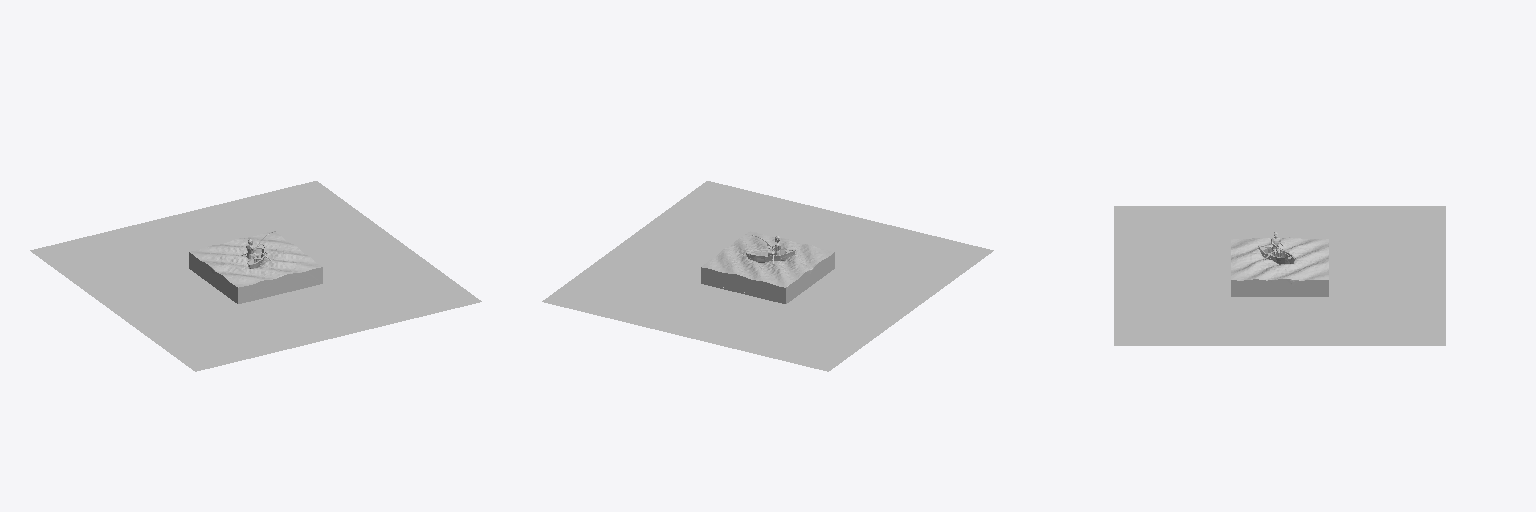
The model's file is sea4.obj.
3 renders of one model, left to right at view 1: azimuth 30°, elevation 25°; view 2: azimuth 150°, elevation 25°; view 3: azimuth 270°, elevation 25°, orthographic.
Visible parts, largest first — view 1: sea3; view 2: sea3; view 3: sea3.
Boxes of the visible parts, x1=… form: sea3: x1=30, y1=181, x2=481, y2=371; sea3: x1=542, y1=181, x2=993, y2=371; sea3: x1=1114, y1=206, x2=1445, y2=345.
Size of the model in its own units: 17.95 by 2.42 by 17.95.